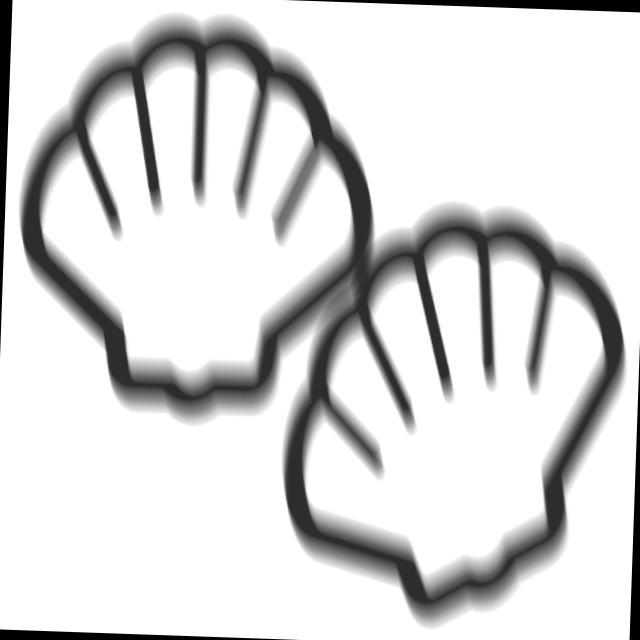shell: (5, 1, 389, 434), (270, 190, 639, 640)
